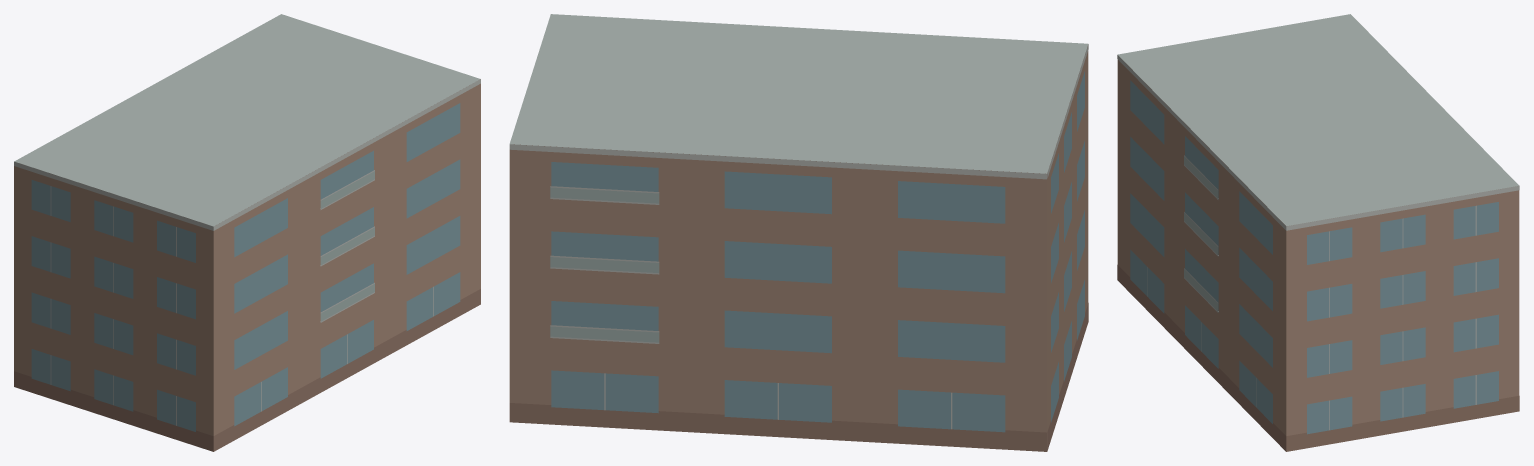
File: survey-upis-32754073.glb
3 renders of one model, left to right at view 1: azimuth 30°, elevation 25°; view 2: azimuth 150°, elevation 25°; view 3: azimuth 270°, elevation 25°, orthographic. The views are drawn at different scales.
Parts seen in each view (by area): view 1: survey-upis-32754073.tmp; view 2: survey-upis-32754073.tmp; view 3: survey-upis-32754073.tmp.
Boxes of the visible parts, box(x1,y1,x2,y2) form: survey-upis-32754073.tmp: box(14, 14, 480, 451); survey-upis-32754073.tmp: box(509, 14, 1088, 451); survey-upis-32754073.tmp: box(1117, 14, 1519, 451).
Bounding box in the file's own units: 24.62 × 12.2 × 19.71.
